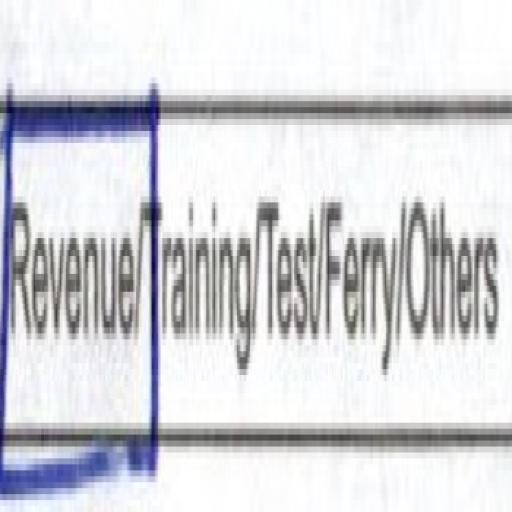check: (2, 44, 144, 506)
